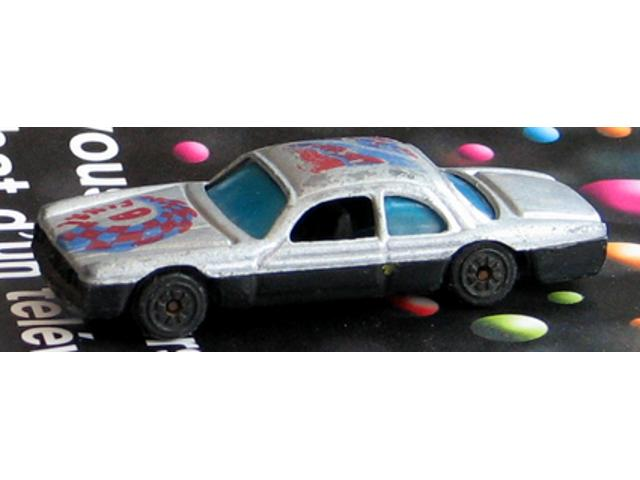toy-car: (29, 132, 610, 342)
